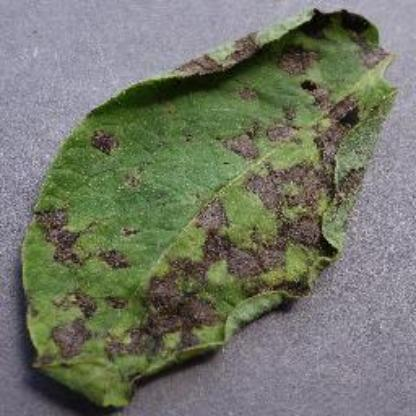Early-Blight: (18, 5, 408, 408)
